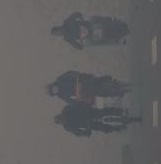person: (53, 102, 128, 138), (45, 70, 121, 102), (50, 11, 112, 50)
